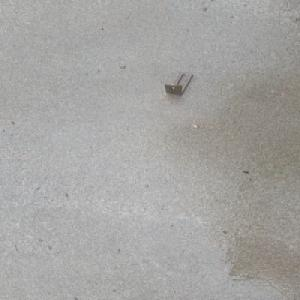MetalPart: (164, 71, 194, 95)
